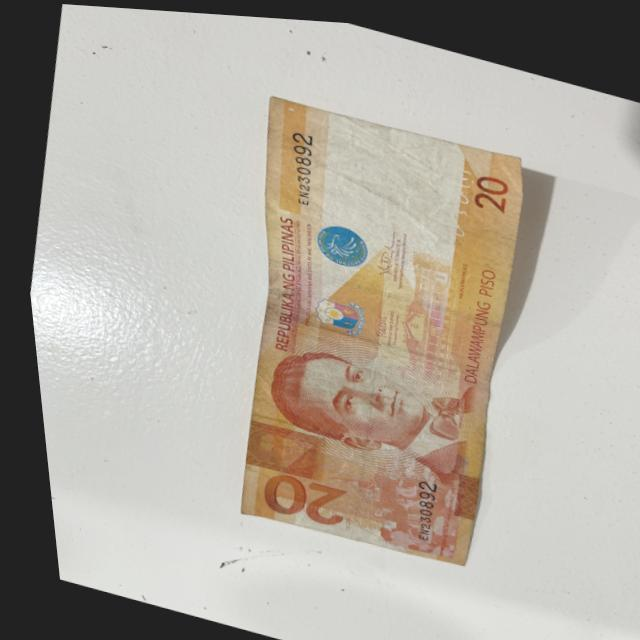concealed_value: (231, 415, 318, 478)
security_thread: (265, 249, 492, 321)
see_through_mark: (426, 150, 480, 240)
serial_number: (260, 115, 328, 215), (389, 467, 442, 542)
value: (233, 461, 342, 525)
watermark: (285, 105, 453, 242)
